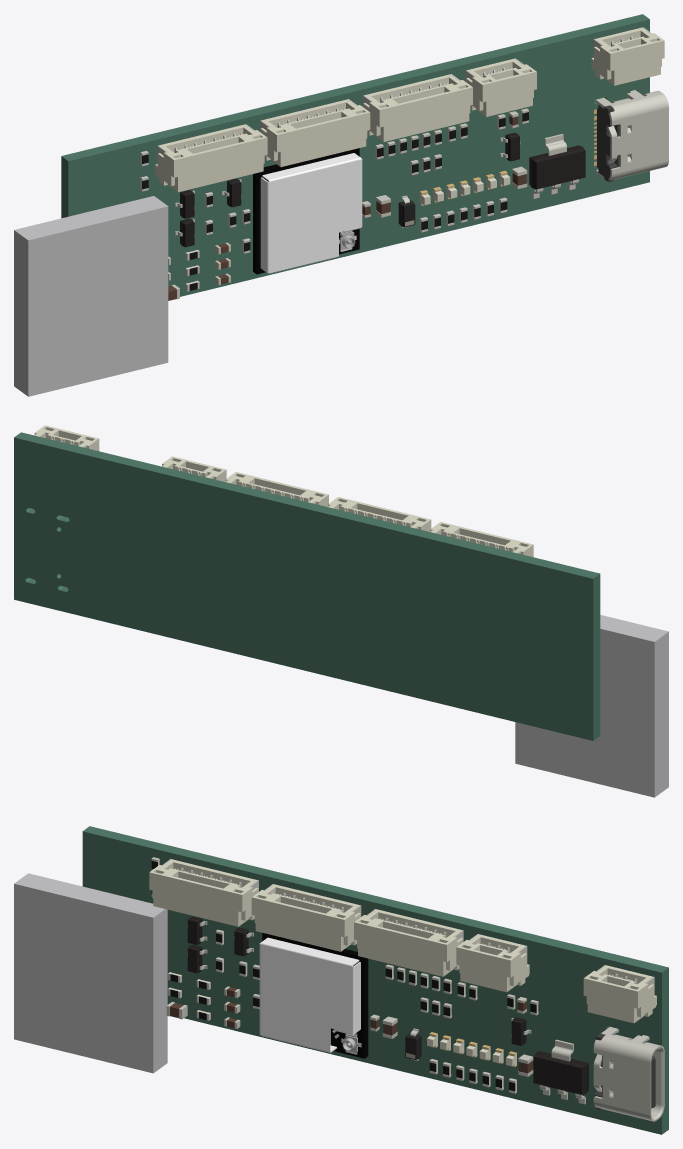
Rendered from board.glb.
3 views of the same model, one above another, from view 1: azimuth 30°, elevation 25°; view 2: azimuth 150°, elevation 25°; view 3: azimuth 330°, elevation 25° (orthographic).
Visible parts, largest first — view 1: =>[0:1:1:26], U7, =>[0:1:1:25]_8d61a5, =>[0:1:1:7]_1_6fc2b9, =>[0:1:1:7]_2_6964b0, =>[0:1:1:7]_5a09a6, =>[0:1:1:23]_87b510, =>[0:1:1:21]_1_0b71bc, =>[0:1:1:21]_382a17, =>[0:1:1:11]_db6e68, =>[0:1:1:25]_4713db, =>[0:1:1:23]_4bb21d (+1 smaller); view 2: =>[0:1:1:26], U7, =>[0:1:1:7]_1_6fc2b9, =>[0:1:1:7]_2_6964b0, =>[0:1:1:7]_5a09a6, =>[0:1:1:21]_1_0b71bc, =>[0:1:1:21]_382a17; view 3: =>[0:1:1:26], U7, =>[0:1:1:25]_8d61a5, =>[0:1:1:23]_87b510, =>[0:1:1:7]_1_6fc2b9, =>[0:1:1:7]_2_6964b0, =>[0:1:1:7]_5a09a6, =>[0:1:1:21]_1_0b71bc, =>[0:1:1:21]_382a17, =>[0:1:1:11]_db6e68, =>[0:1:1:25]_4713db, =>[0:1:1:11]_571e09.
Boxes of the visible parts, x1,y1,x2,y2 form: =>[0:1:1:26]: (61, 14, 649, 296); U7: (14, 196, 168, 396); =>[0:1:1:25]_8d61a5: (260, 153, 362, 273); =>[0:1:1:7]_1_6fc2b9: (155, 124, 267, 192); =>[0:1:1:7]_2_6964b0: (260, 99, 370, 166); =>[0:1:1:7]_5a09a6: (363, 74, 472, 141); =>[0:1:1:23]_87b510: (595, 90, 668, 180); =>[0:1:1:21]_1_0b71bc: (591, 27, 664, 85); =>[0:1:1:21]_382a17: (466, 59, 536, 116); =>[0:1:1:11]_db6e68: (529, 145, 585, 189); =>[0:1:1:25]_4713db: (253, 148, 359, 274); =>[0:1:1:23]_4bb21d: (597, 102, 630, 182); =>[0:1:1:26]: (14, 432, 600, 740); U7: (515, 615, 668, 797); =>[0:1:1:7]_1_6fc2b9: (430, 522, 533, 557); =>[0:1:1:7]_2_6964b0: (328, 497, 431, 531); =>[0:1:1:7]_5a09a6: (225, 472, 328, 506); =>[0:1:1:21]_1_0b71bc: (34, 425, 99, 450); =>[0:1:1:21]_382a17: (162, 456, 226, 481); =>[0:1:1:26]: (82, 826, 668, 1134); U7: (14, 873, 167, 1073); =>[0:1:1:25]_8d61a5: (259, 937, 360, 1052); =>[0:1:1:23]_87b510: (593, 1027, 664, 1121); =>[0:1:1:7]_1_6fc2b9: (149, 859, 258, 926); =>[0:1:1:7]_2_6964b0: (251, 884, 360, 951); =>[0:1:1:7]_5a09a6: (354, 909, 463, 976); =>[0:1:1:21]_1_0b71bc: (583, 965, 656, 1023); =>[0:1:1:21]_382a17: (456, 934, 529, 992); =>[0:1:1:11]_db6e68: (533, 1051, 588, 1094); =>[0:1:1:25]_4713db: (262, 933, 368, 1058); =>[0:1:1:11]_571e09: (539, 1039, 585, 1104).
Bounding box in the file's own units: 82.24 × 26 × 5.89.
